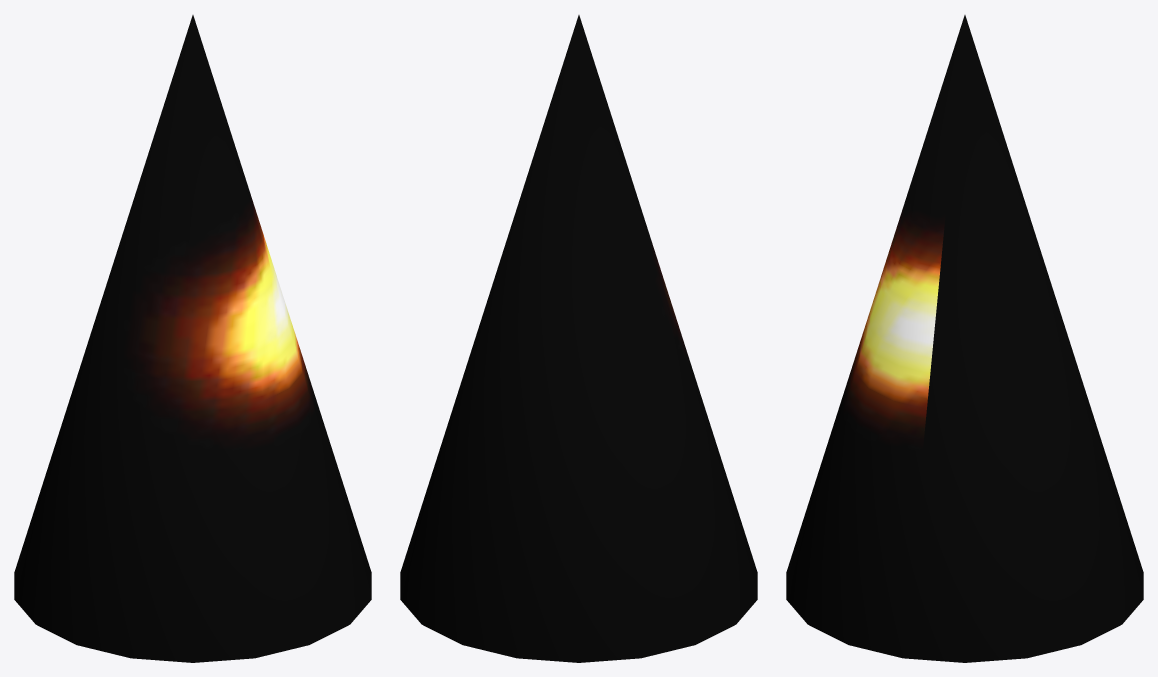
Rendered from 0307_hela_01.glb.
3 renders of one model, left to right at view 1: azimuth 30°, elevation 25°; view 2: azimuth 150°, elevation 25°; view 3: azimuth 270°, elevation 25°, orthographic.
Size of the model in its own units: 1.26 by 2.2 by 1.25.
1 material, 1 textured.
